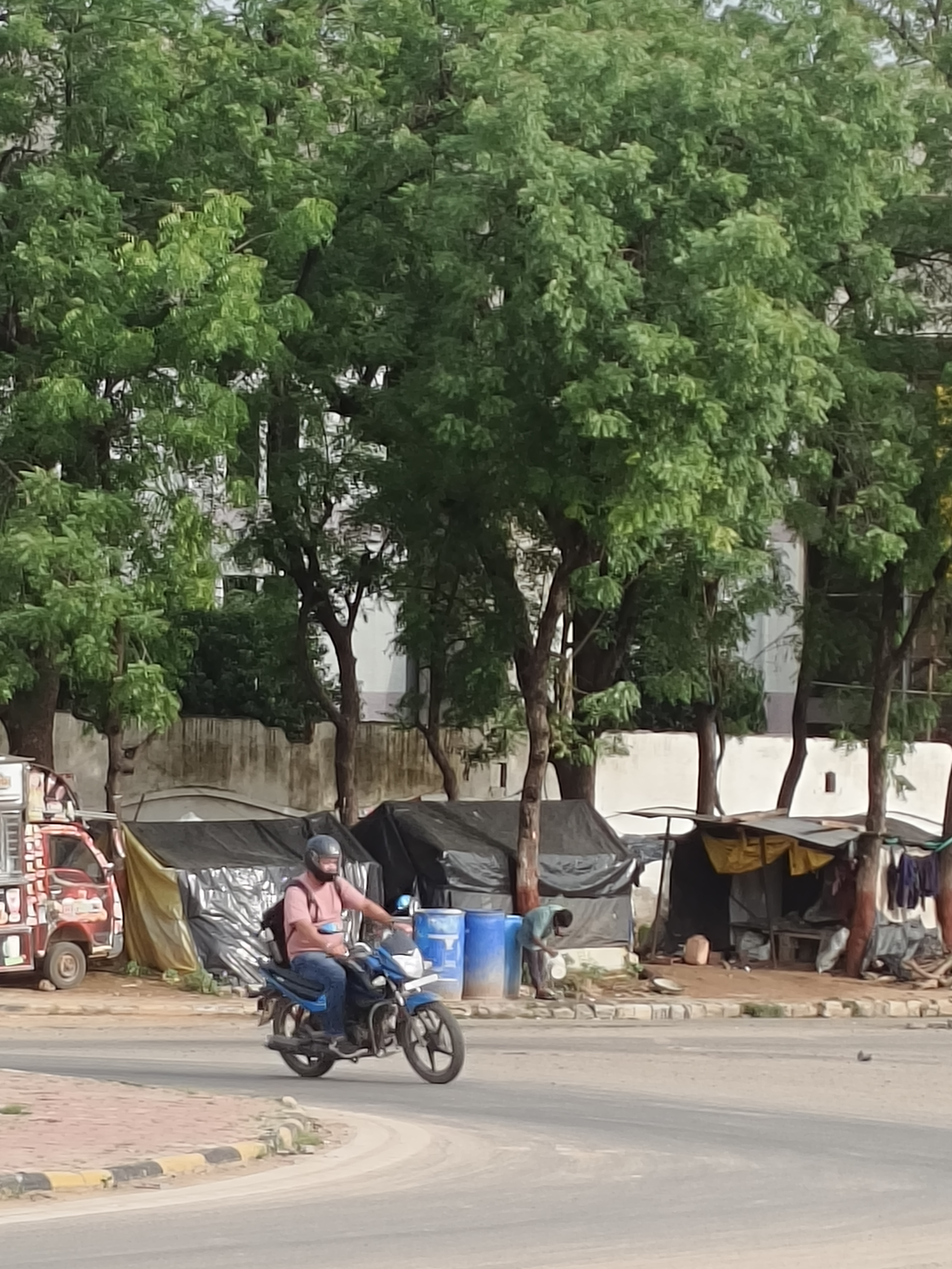BikeWithRider: (243, 827, 476, 1092)
Helmet: (294, 829, 349, 888)
